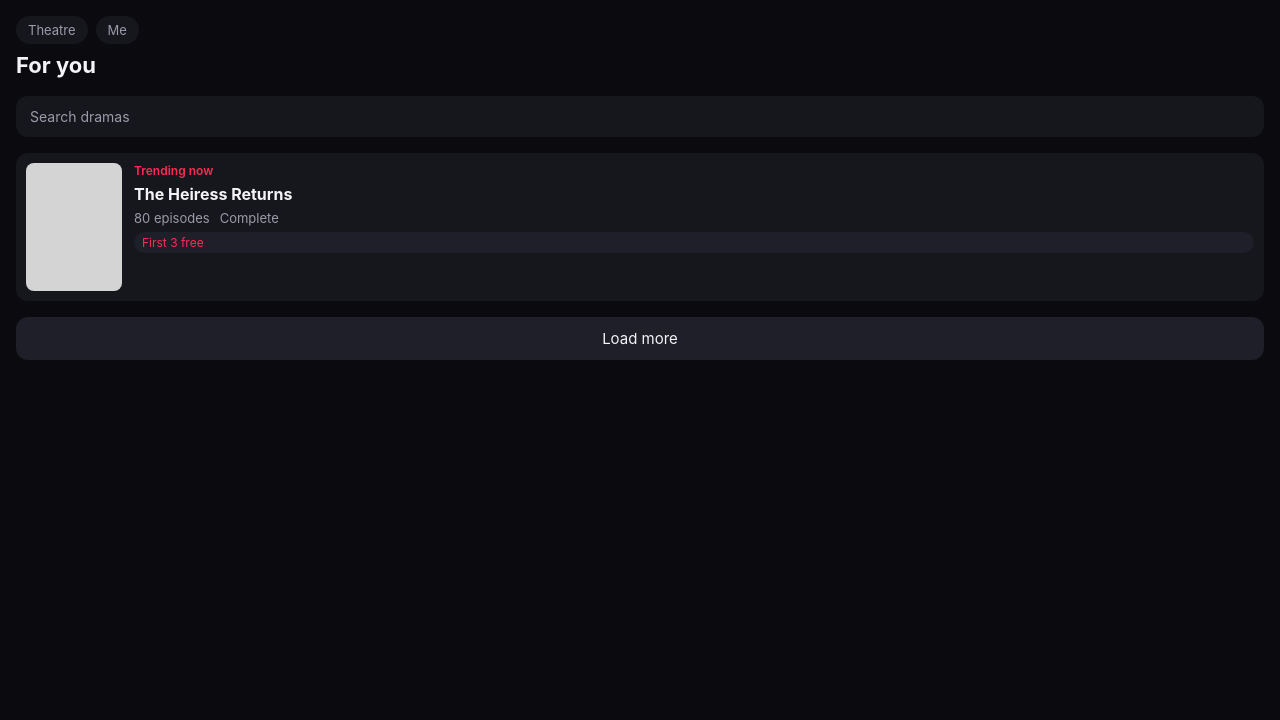
Scenario: feed paging › keeps the loaded cards when the next page fails
Click the button with test id "load-more".
click(640, 338)  # box left=16, top=316, right=1264, bottom=360
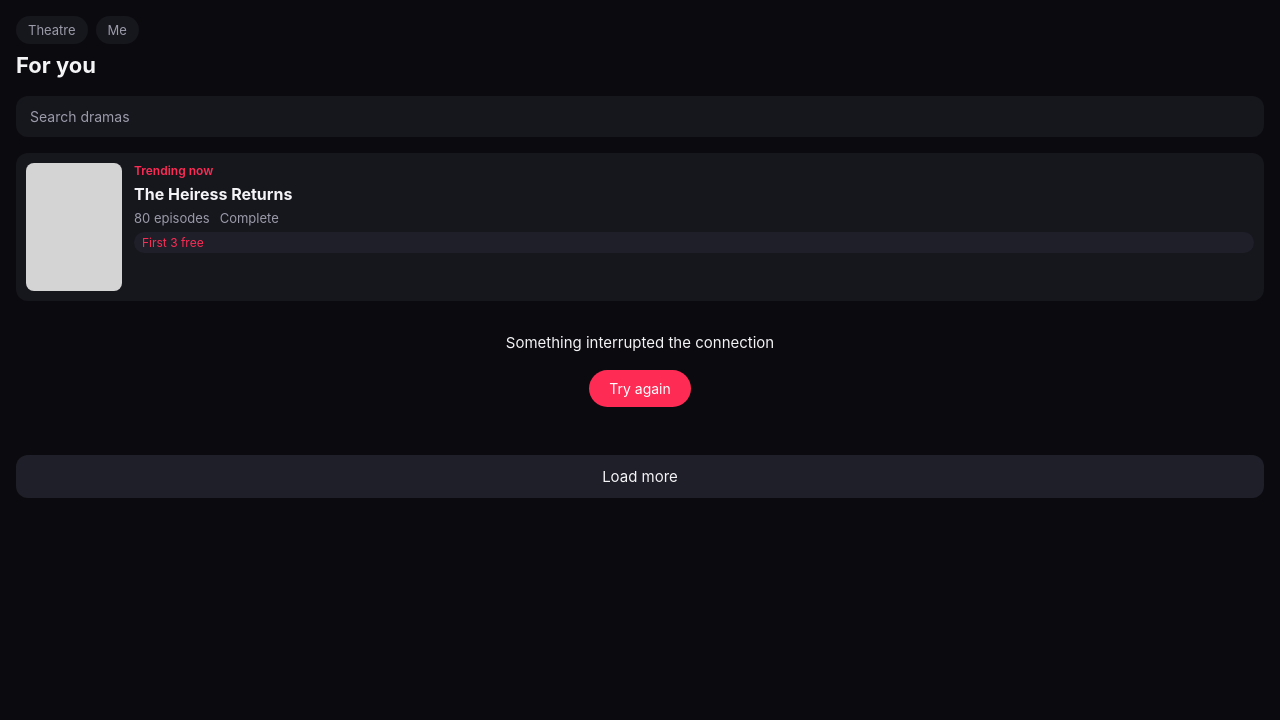
Expected: the button with test id "load-more" is shown, left=16, top=454, right=1264, bottom=498
Expected: the message "Something interrupted the connection Try again" is shown, left=506, top=332, right=774, bottom=406
